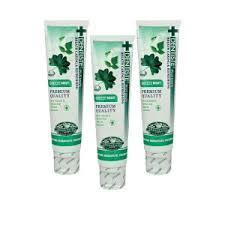toothpaste: (137, 20, 187, 177), (38, 17, 87, 176), (89, 29, 135, 192)
